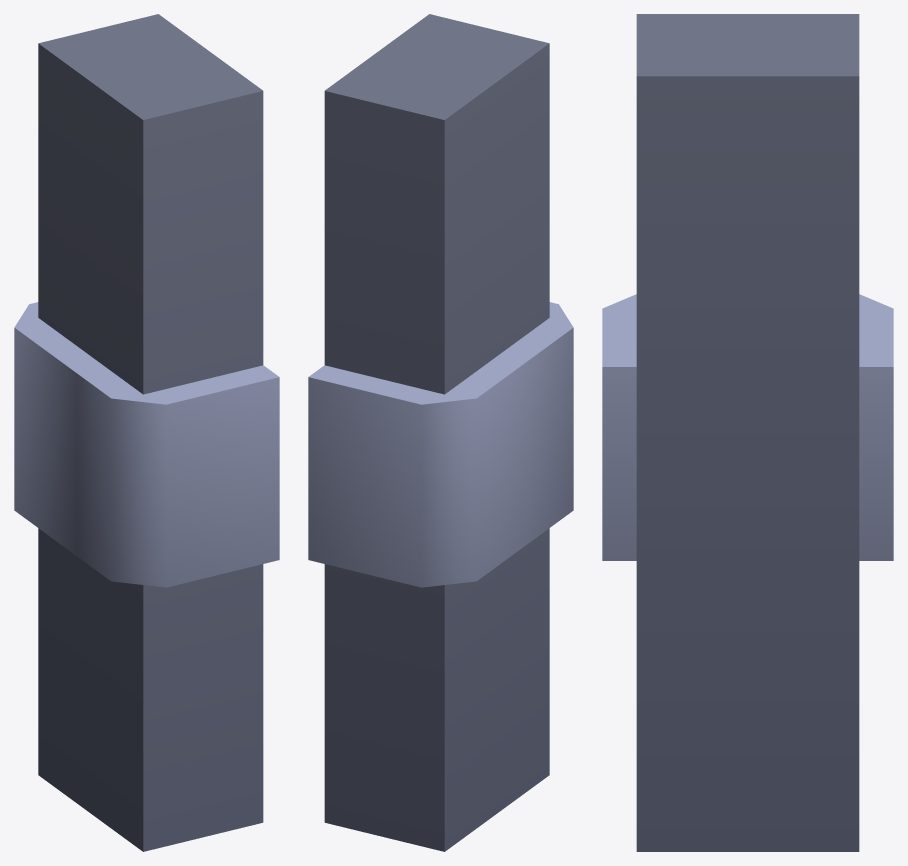
File: chimney-kn-chimney.glb
3 renders of one model, left to right at view 1: azimuth 30°, elevation 25°; view 2: azimuth 150°, elevation 25°; view 3: azimuth 270°, elevation 25°, orthographic. The views are drawn at different scales.
Visible parts, largest first — view 1: chimney; view 2: chimney; view 3: chimney.
Part boxes in pixels (x1,y1,x2,y2): chimney: (14,14,279,851); chimney: (308,14,573,851); chimney: (602,14,893,851).
Size of the model in its own units: 0.6357 by 3 by 1.02.
1 material, 1 textured.
